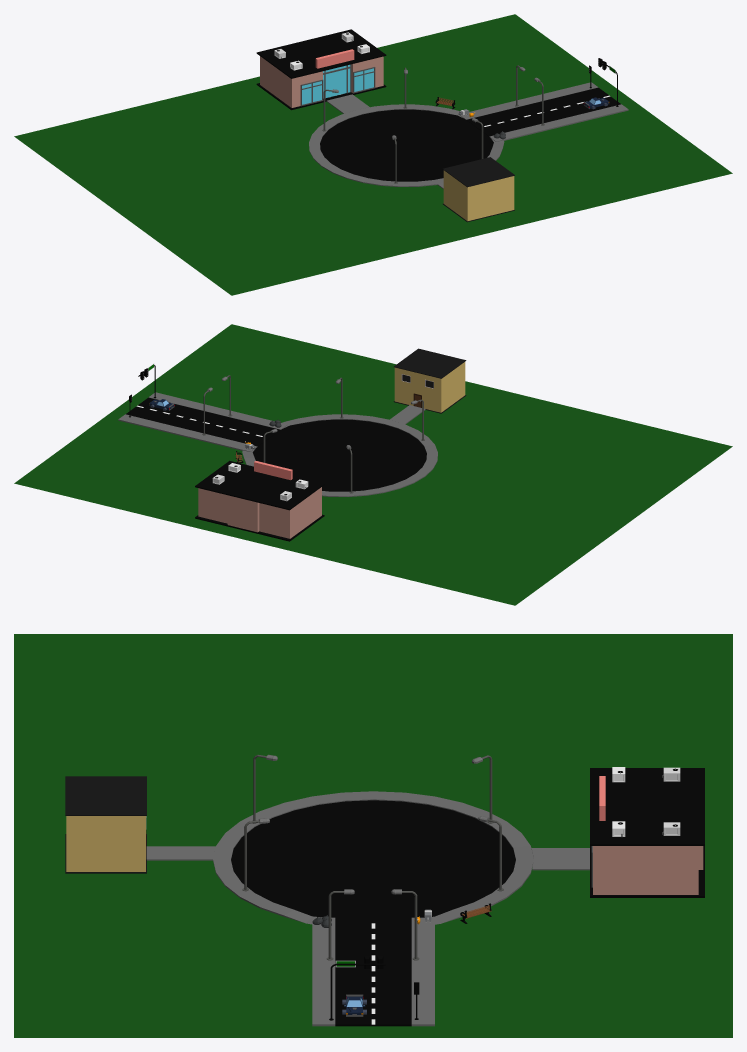
Rendered from MAP.fbx.
3 renders of one model, top to bottom at view 1: azimuth 30°, elevation 25°; view 2: azimuth 150°, elevation 25°; view 3: azimuth 270°, elevation 25°, orthographic. The views are drawn at different scales.
Parts seen in each view (by area): view 1: Plane.001, Circle, Plane, Cube.018, Plane.006, Cube.014, Plane.003, Cube.019, Plane.008; view 2: Plane.001, Circle, Plane, Plane.006, Cube.018, Cube.014, Plane.003, Cube.019; view 3: Plane.001, Circle, Plane, Plane.006, Cube.018, Cube.014, Plane.003, Plane.008, Plane.005, Plane.007.
Boxes of the visible parts, box(x1,y1,x2,y2) form: Plane.001: box(14, 14, 732, 295); Circle: box(309, 104, 504, 186); Plane: box(460, 82, 628, 141); Cube.018: box(260, 56, 383, 107); Plane.006: box(256, 29, 386, 78); Cube.014: box(443, 170, 514, 221); Plane.003: box(443, 157, 514, 187); Cube.019: box(323, 64, 351, 98); Plane.008: box(326, 94, 369, 113); Plane.001: box(14, 324, 732, 605); Circle: box(242, 414, 437, 496); Plane: box(118, 392, 287, 451); Plane.006: box(195, 460, 324, 510); Cube.018: box(198, 487, 321, 538); Cube.014: box(394, 362, 465, 412); Plane.003: box(394, 348, 466, 378); Cube.019: box(227, 495, 259, 532); Plane.001: box(14, 634, 732, 1037); Circle: box(213, 791, 533, 924); Plane: box(312, 917, 434, 1026); Plane.006: box(590, 768, 704, 845); Cube.018: box(591, 846, 698, 894); Cube.014: box(66, 816, 146, 871); Plane.003: box(65, 776, 146, 815); Plane.008: box(531, 848, 589, 870); Plane.005: box(146, 846, 215, 860); Plane.007: box(590, 846, 704, 897).
Size of the model in its own units: 6219 by 519 by 4677.
